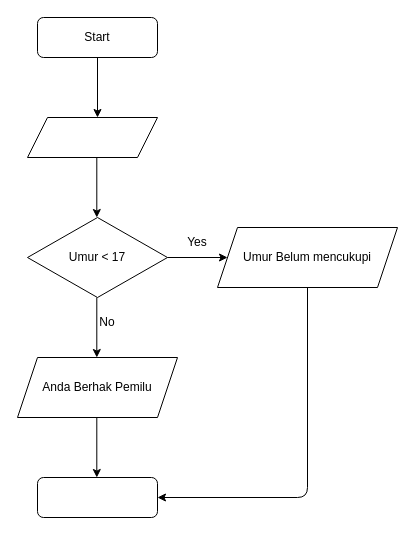
This 415x535 diagram has some shape labels left out. Each missing label, with the centre of its shape:
"Finish" belongs at (x=97, y=497).
"Input Umur" belongs at (x=92, y=137).
